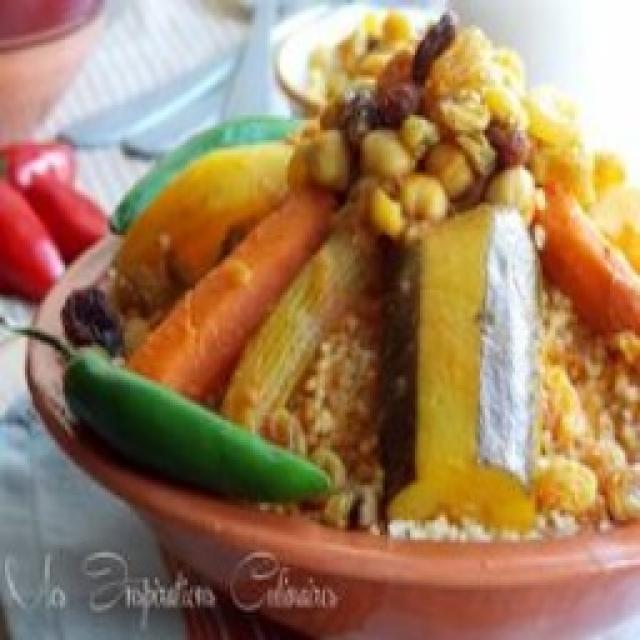Couscous: (22, 11, 640, 539)
